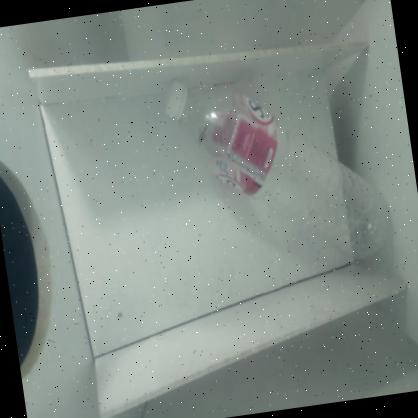bottle: (147, 38, 410, 310)
cap: (158, 76, 193, 125)
label: (204, 87, 290, 209)
